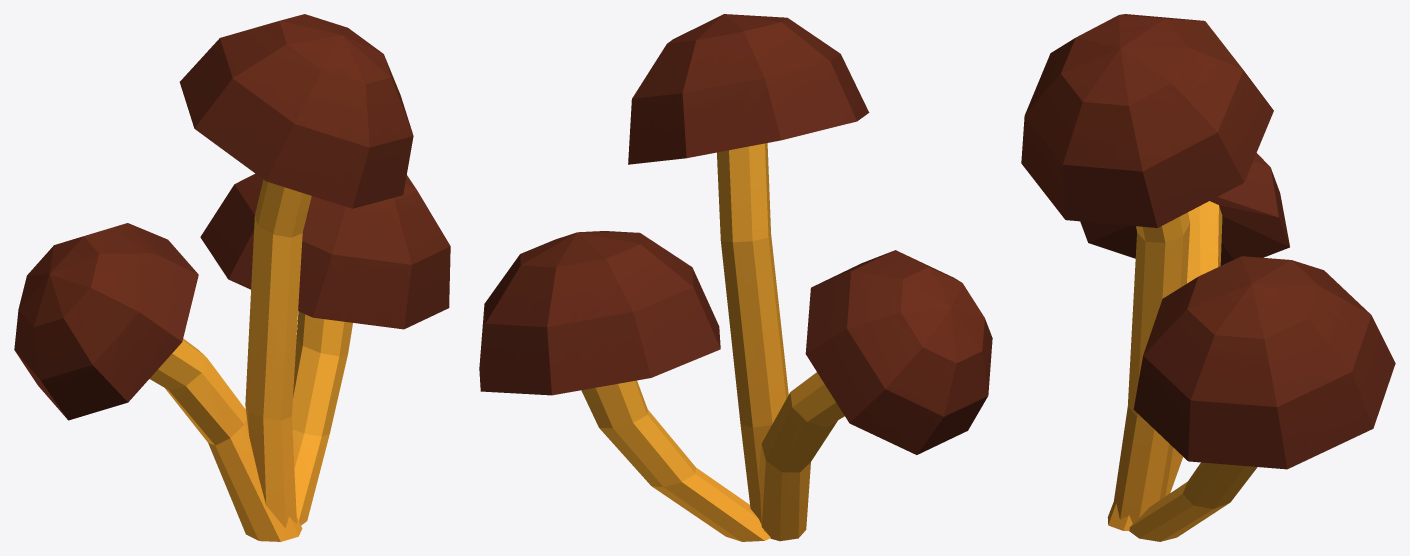
File: FBX_MushroomLong.fbx
3 renders of one model, left to right at view 1: azimuth 30°, elevation 25°; view 2: azimuth 150°, elevation 25°; view 3: azimuth 270°, elevation 25°, orthographic. The views are drawn at different scales.
Parts seen in each view (by area): view 1: M_MushroomLong; view 2: M_MushroomLong; view 3: M_MushroomLong.
Boxes of the visible parts, x1=… form: M_MushroomLong: x1=14, y1=14, x2=450, y2=541; M_MushroomLong: x1=479, y1=14, x2=992, y2=541; M_MushroomLong: x1=1021, y1=14, x2=1395, y2=541.
Size of the model in its own units: 0.3557 by 0.3817 by 0.2527.
